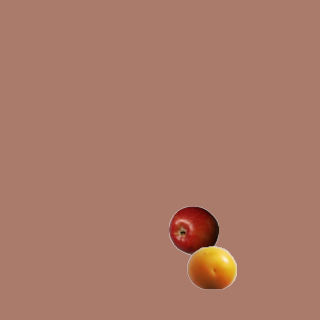Apple Braeburn: (168, 205, 218, 255)
Cherry Wax Yellow: (186, 242, 236, 292)
